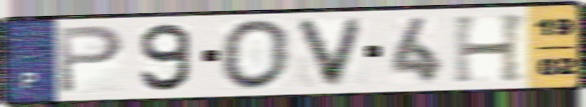4: (388, 14, 447, 86)
9: (138, 22, 194, 93)
H: (450, 11, 532, 85)
O: (217, 18, 293, 92)
P: (55, 23, 128, 96)
V: (291, 16, 370, 89)
